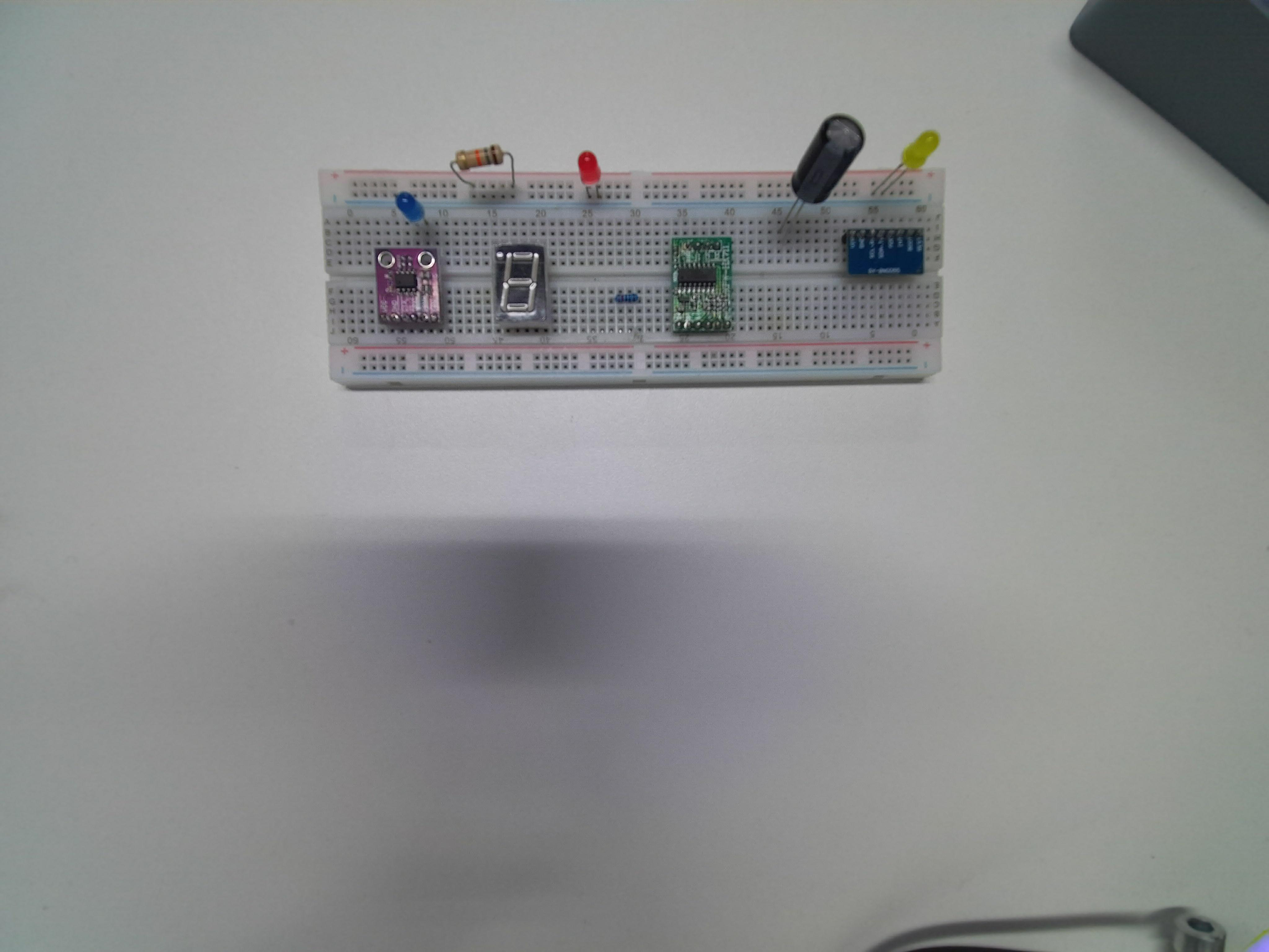base: (321, 171, 948, 393)
blue-board: (841, 224, 926, 279)
blue-led: (394, 191, 423, 224)
capacitor: (790, 109, 868, 206)
digit-board: (492, 243, 555, 334), (493, 243, 556, 333)
green-board: (664, 234, 737, 335), (664, 234, 735, 336)
purple-board: (373, 247, 443, 334)
red-led: (577, 150, 601, 185)
resistor-big: (451, 141, 505, 172)
resistor-small: (609, 289, 643, 309)
yellow-led: (895, 124, 941, 174)
